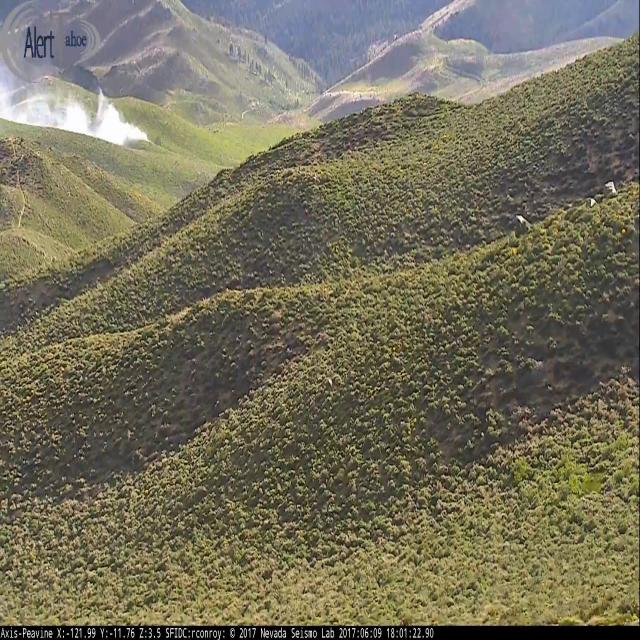smoke: (0, 63, 156, 147)
